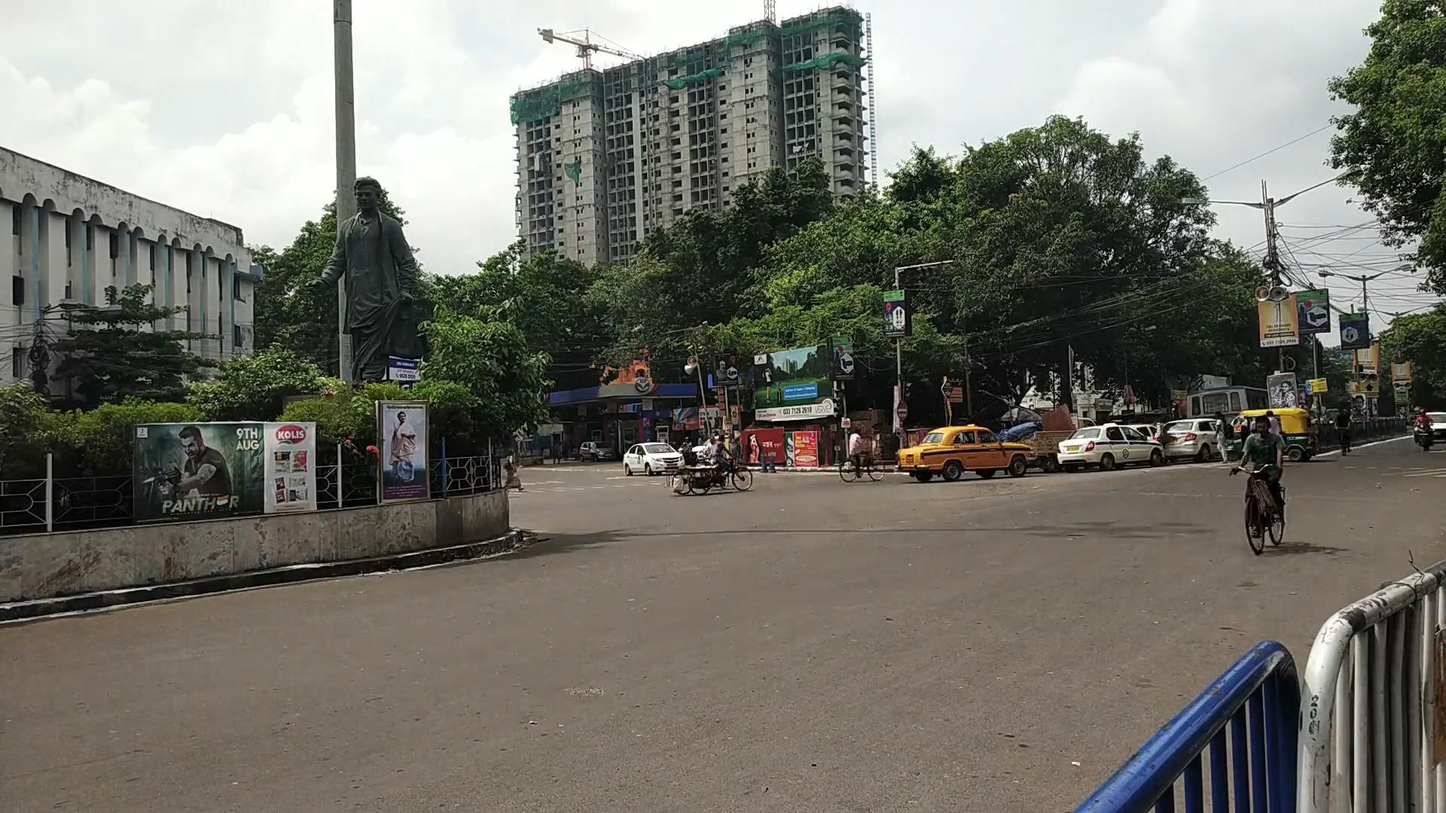bicyclist: (1230, 415, 1287, 553)
no-helmet: (1255, 415, 1271, 435)
